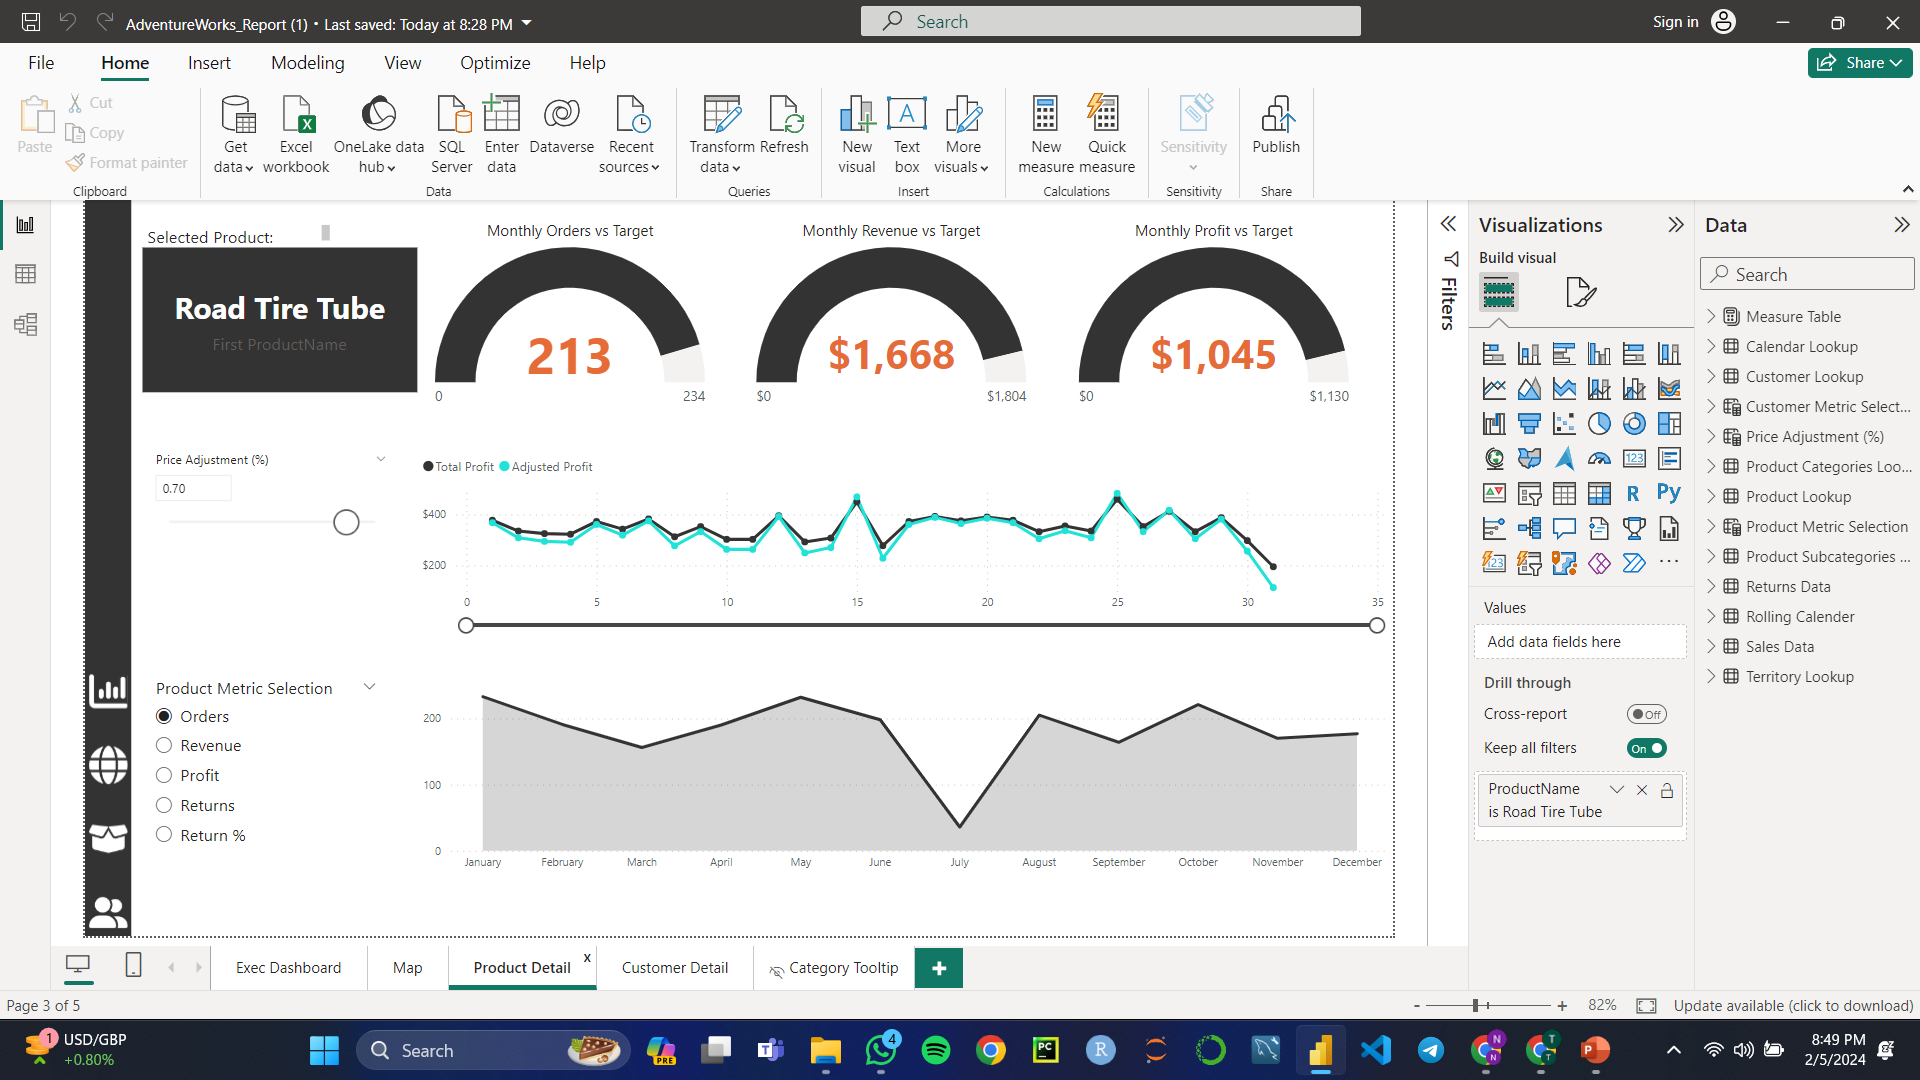

Layout of this report page (visuals, bound fields, positions):
{"tool":"powerbi","page":{"name":"Product Detail","canvas":[1280,720],"ordinal":2},"visuals":[{"type":"shape","box":[0,0,45.2,719.8],"z":0},{"type":"actionButton","box":[0,456,45.8,48.2],"z":0,"group":"g1"},{"type":"gauge","title":"Monthly Orders vs Target","fields":{"Y":["Measure Table.Total Orders"],"MaxValue":["Measure Table.Order Target"]},"box":[337.3,19.2,274.2,193.3],"z":1000},{"type":"actionButton","box":[0,599.9,45.8,48.2],"z":1000,"group":"g1"},{"type":"gauge","title":"Monthly Revenue vs Target","fields":{"Y":["Measure Table.Total Revenue"],"MaxValue":["Measure Table.Revenue Target"]},"box":[651.9,19.2,274.2,193.3],"z":2000},{"type":"actionButton","box":[0,671.9,45.8,48.2],"z":2000,"group":"g1"},{"type":"gauge","title":"Monthly Profit vs Target","fields":{"Y":["Measure Table.Total Profit"],"MaxValue":["Measure Table.Profit Target"]},"box":[966.6,19.2,274.2,193.3],"z":3000},{"type":"actionButton","box":[0,528,45.8,48.2],"z":3000,"group":"g1"},{"type":"lineChart","title":"Profit Trending","fields":{"Category":["Calendar Lookup.Date.Variation.Date Hierarchy.Year","Calendar Lookup.Date.Variation.Date Hierarchy.Quarter","Calendar Lookup.Date.Variation.Date Hierarchy.Month","Calendar Lookup.Date.Variation.Date Hierarchy.Day"],"Y":["Measure Table.Total Profit"],"Y2":["Measure Table.Adjusted Profit"]},"box":[325.6,241.2,954,185.7],"z":4000},{"type":"areaChart","title":"Returns Trending","fields":{"Y":["Measure Table.Total Orders"],"Category":["Calendar Lookup.Start of Week.Variation.Date Hierarchy.Year","Calendar Lookup.Start of Week.Variation.Date Hierarchy.Quarter","Calendar Lookup.Start of Week.Variation.Date Hierarchy.Month","Calendar Lookup.Start of Week.Variation.Date Hierarchy.Day"]},"box":[325.6,460.7,955.2,203.8],"z":5000},{"type":"card","fields":{"Values":["Min(Product Lookup.ProductName)"]},"box":[56.2,46.6,268.7,141.2],"z":6000},{"type":"textbox","box":[56.2,19.2,187.8,27.4],"z":7000},{"type":"group","id":"g1","title":"Navigation Buttons","box":[0,456,45.9,264.1],"z":8000},{"type":"slicer","fields":{"Values":["Price Adjustment (%).Price Adjustment (%)"]},"box":[56.7,241.2,250.9,107.3],"z":9000},{"type":"slicer","fields":{"Values":["Product Metric Selection .Product Metric Selection "]},"box":[56.7,460.7,241.2,205],"z":10000}]}

Visuals, with their boxes on the page's 1280x720 design canvas (x1, y1, x2, y2). These are canvas units, not pixel positions in the 1920x1080 screenshot, which may show the page scaled, cropped or inside an application window:
shape: <bbox>0, 0, 45, 720</bbox>
actionButton: <bbox>0, 456, 46, 504</bbox>
"Monthly Orders vs Target" gauge: <bbox>337, 19, 612, 212</bbox>
actionButton: <bbox>0, 600, 46, 648</bbox>
"Monthly Revenue vs Target" gauge: <bbox>652, 19, 926, 212</bbox>
actionButton: <bbox>0, 672, 46, 720</bbox>
"Monthly Profit vs Target" gauge: <bbox>967, 19, 1241, 212</bbox>
actionButton: <bbox>0, 528, 46, 576</bbox>
"Profit Trending" lineChart: <bbox>326, 241, 1280, 427</bbox>
"Returns Trending" areaChart: <bbox>326, 461, 1281, 664</bbox>
card - Min(Product Lookup.ProductName): <bbox>56, 47, 325, 188</bbox>
textbox: <bbox>56, 19, 244, 47</bbox>
"Navigation Buttons" group: <bbox>0, 456, 46, 720</bbox>
slicer - Price Adjustment (%).Price Adjustment (%): <bbox>57, 241, 308, 348</bbox>
slicer - Product Metric Selection .Product Metric Selection : <bbox>57, 461, 298, 666</bbox>
